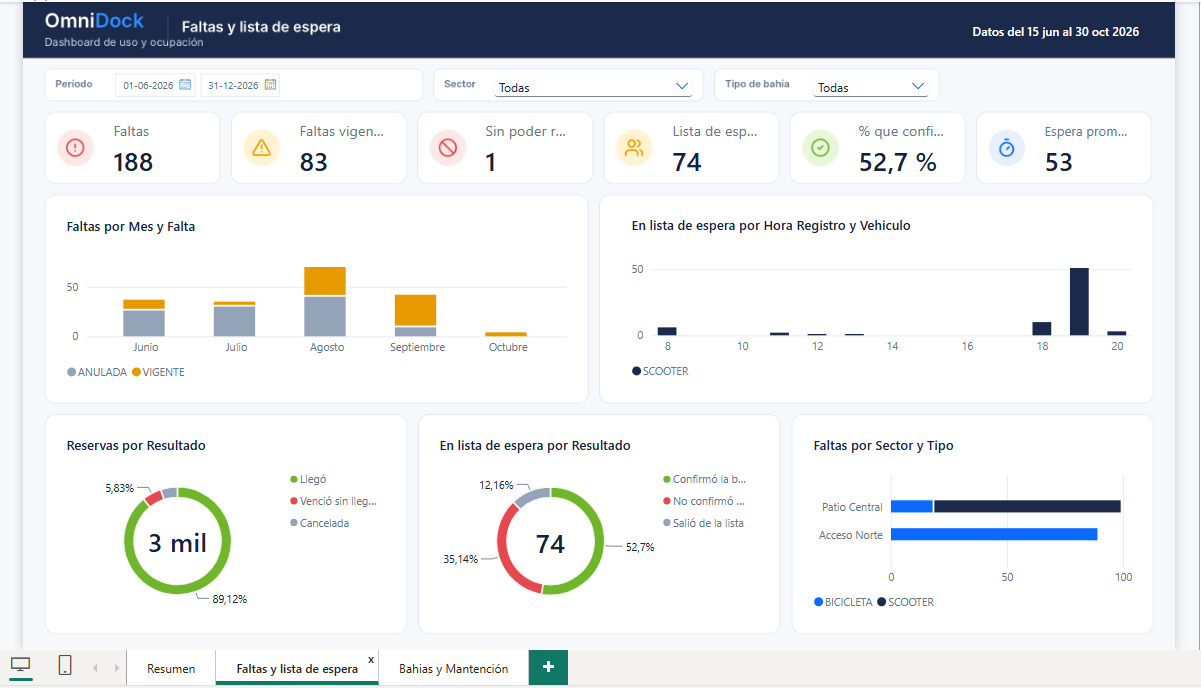

The page's visual inventory and layout, read from the dashboard file:
{"tool":"powerbi","page":{"name":"Faltas y lista de espera","canvas":[1280,720],"ordinal":1},"visuals":[{"type":"slicer","fields":{"Values":["V_DIM_FECHA.FECHA"]},"box":[94,74,344,32],"z":0},{"type":"slicer","fields":{"Values":["V_DIM_BAHIA.SECTOR"]},"box":[518,74,232,32],"z":1000},{"type":"slicer","fields":{"Values":["V_DIM_BAHIA.TIPO_PERMITIDO"]},"box":[872,74,140,32],"z":2000},{"type":"cardVisual","fields":{"Data":["Medidas.Rango de datos"]},"box":[1000,16,256,32],"z":3000},{"type":"cardVisual","fields":{"Data":["Medidas.Faltas"]},"box":[84,132,129,64],"z":4000},{"type":"cardVisual","fields":{"Data":["Medidas.Faltas vigentes"]},"box":[291,132.2,129,64],"z":5000},{"type":"cardVisual","fields":{"Data":["Medidas.Sin poder reservar hoy"]},"box":[498,132.2,129,64],"z":6000},{"type":"cardVisual","fields":{"Data":["Medidas.En lista de espera"]},"box":[705,132.2,129,64],"z":7000},{"type":"cardVisual","fields":{"Data":["Medidas.% que confirmó"]},"box":[912,132.2,129,64],"z":8000},{"type":"cardVisual","fields":{"Data":["Medidas.Espera promedio (min)"]},"box":[1119,132.2,129,64],"z":9000},{"type":"columnChart","fields":{"Category":["V_DIM_FECHA.NOMBRE_MES"],"Series":["V_HECHO_FALTA.ESTADO_FALTA"],"Y":["Medidas.Faltas"]},"box":[32,224,588,216],"z":9001},{"type":"columnChart","fields":{"Category":["V_HECHO_LISTA_ESPERA.HORA_REGISTRO"],"Series":["V_HECHO_LISTA_ESPERA.TIPO_VEHICULO"],"Y":["Medidas.En lista de espera"]},"box":[660.1,223.1,588,216],"z":9002},{"type":"donutChart","fields":{"Category":["V_HECHO_RESERVA.Resultado"],"Y":["Medidas.Reservas"]},"box":[32,468,386,228],"z":9003},{"type":"donutChart","fields":{"Category":["V_HECHO_LISTA_ESPERA.Resultado"],"Y":["Medidas.En lista de espera"]},"box":[447,468,386,228.3],"z":9004},{"type":"barChart","title":"Faltas por Sector y Tipo","fields":{"Category":["V_DIM_BAHIA.SECTOR"],"Series":["V_DIM_BAHIA.TIPO_PERMITIDO"],"Y":["Medidas.Faltas"]},"box":[862,468,386,228.3],"z":9005}]}

Visuals, with their boxes on the page's 1280x720 design canvas (x1, y1, x2, y2). These are canvas units, not pixel positions in the 1201x688 screenshot, which may show the page scaled, cropped or inside an application window:
slicer - V_DIM_FECHA.FECHA: locate(94, 74, 438, 106)
slicer - V_DIM_BAHIA.SECTOR: locate(518, 74, 750, 106)
slicer - V_DIM_BAHIA.TIPO_PERMITIDO: locate(872, 74, 1012, 106)
cardVisual - Medidas.Rango de datos: locate(1000, 16, 1256, 48)
cardVisual - Medidas.Faltas: locate(84, 132, 213, 196)
cardVisual - Medidas.Faltas vigentes: locate(291, 132, 420, 196)
cardVisual - Medidas.Sin poder reservar hoy: locate(498, 132, 627, 196)
cardVisual - Medidas.En lista de espera: locate(705, 132, 834, 196)
cardVisual - Medidas.% que confirmó: locate(912, 132, 1041, 196)
cardVisual - Medidas.Espera promedio (min): locate(1119, 132, 1248, 196)
columnChart - V_DIM_FECHA.NOMBRE_MES x V_HECHO_FALTA.ESTADO_FALTA: locate(32, 224, 620, 440)
columnChart - V_HECHO_LISTA_ESPERA.HORA_REGISTRO x V_HECHO_LISTA_ESPERA.TIPO_VEHICULO: locate(660, 223, 1248, 439)
donutChart - V_HECHO_RESERVA.Resultado x Medidas.Reservas: locate(32, 468, 418, 696)
donutChart - V_HECHO_LISTA_ESPERA.Resultado x Medidas.En lista de espera: locate(447, 468, 833, 696)
"Faltas por Sector y Tipo" barChart: locate(862, 468, 1248, 696)
